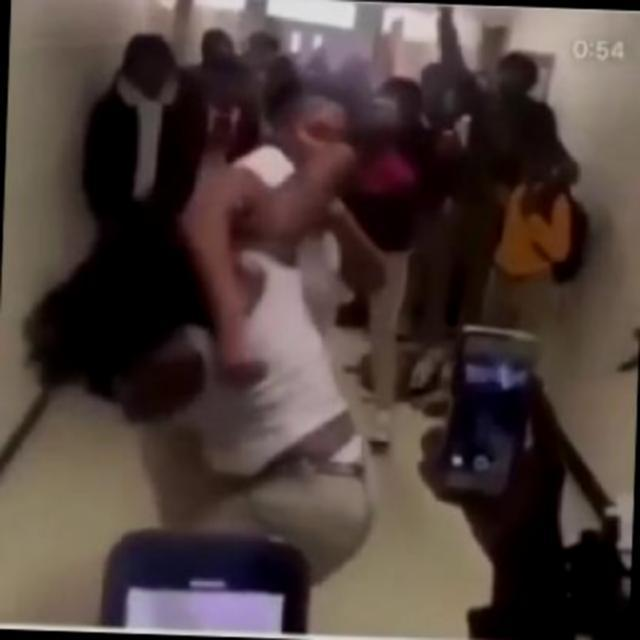fight: (0, 87, 392, 538)
